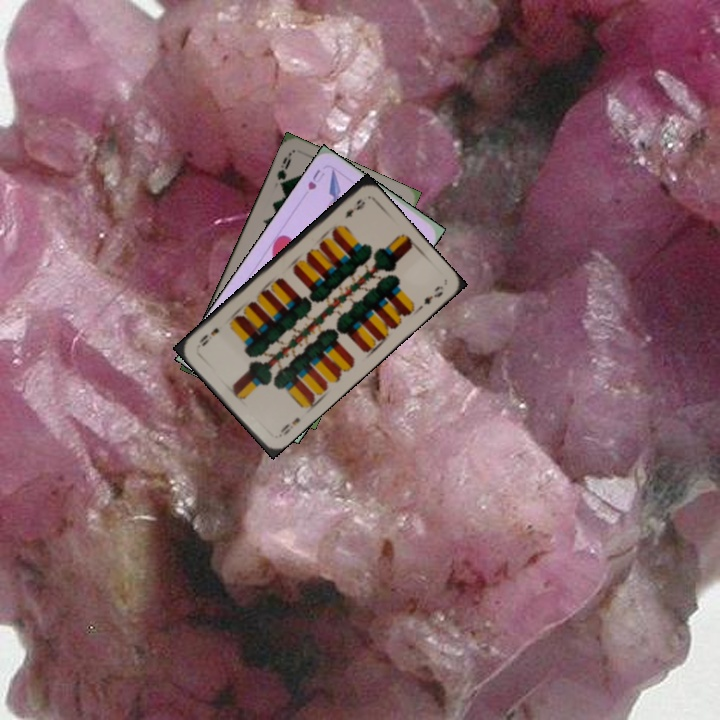E9: (273, 413, 303, 440), (340, 195, 368, 221)
G9: (273, 149, 294, 191)
HU: (303, 165, 328, 192)
